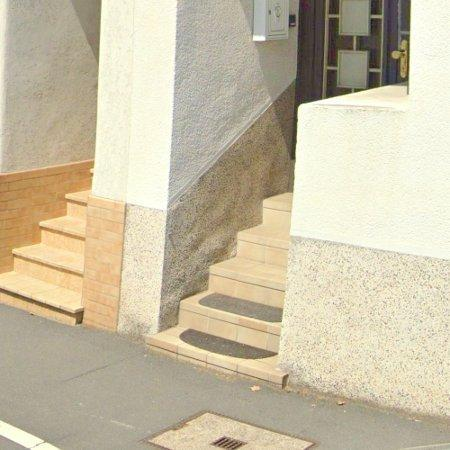stairs: (147, 194, 292, 388), (0, 191, 89, 325)
